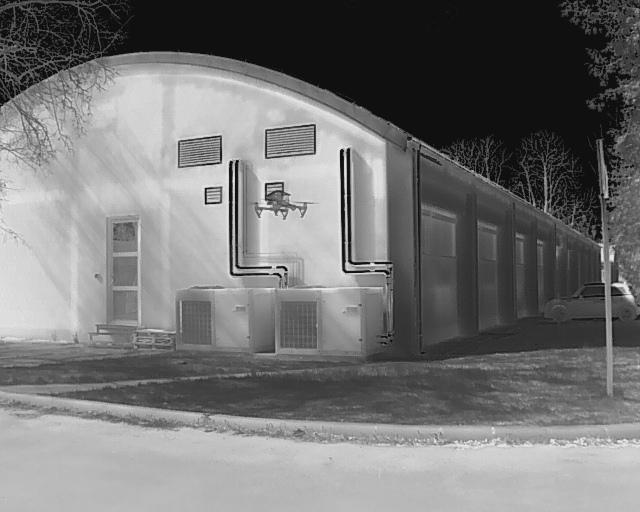drone: (251, 182, 318, 234)
